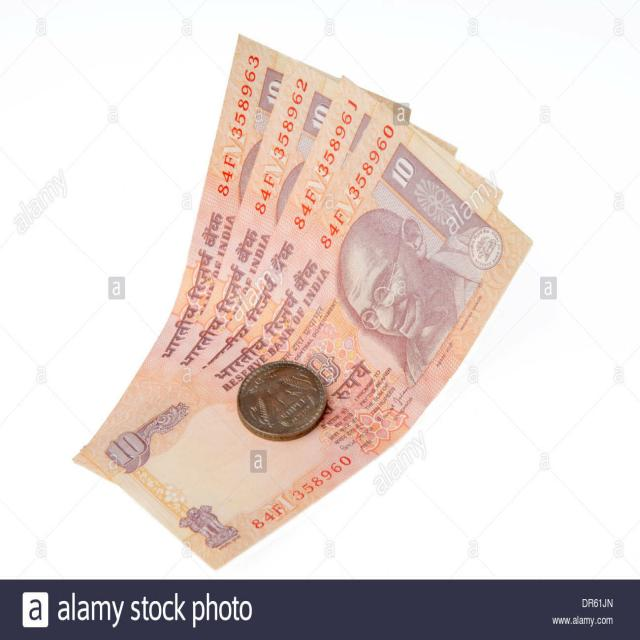10IndianRupees: (100, 126, 534, 551)
